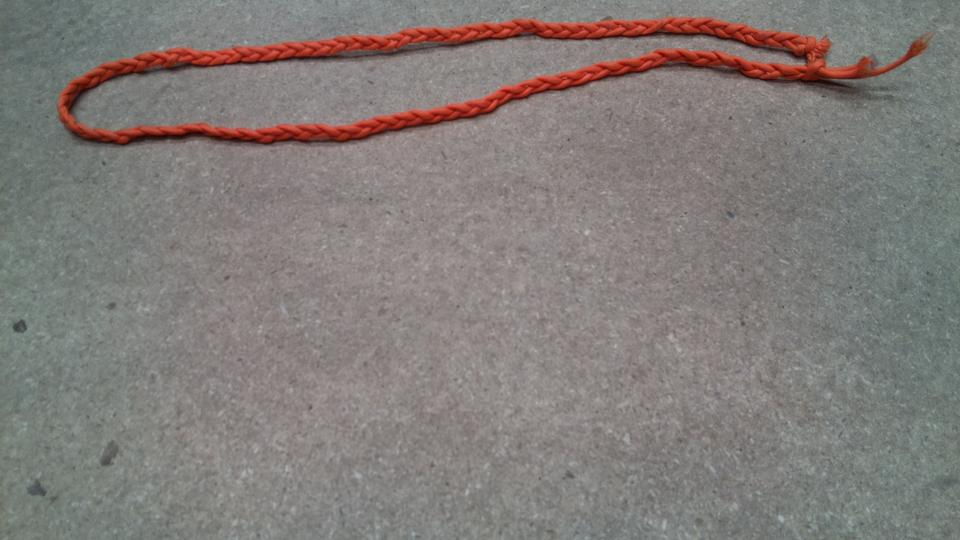rope: (53, 14, 936, 152)
